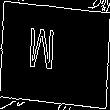M_S: (41, 28, 69, 82)
